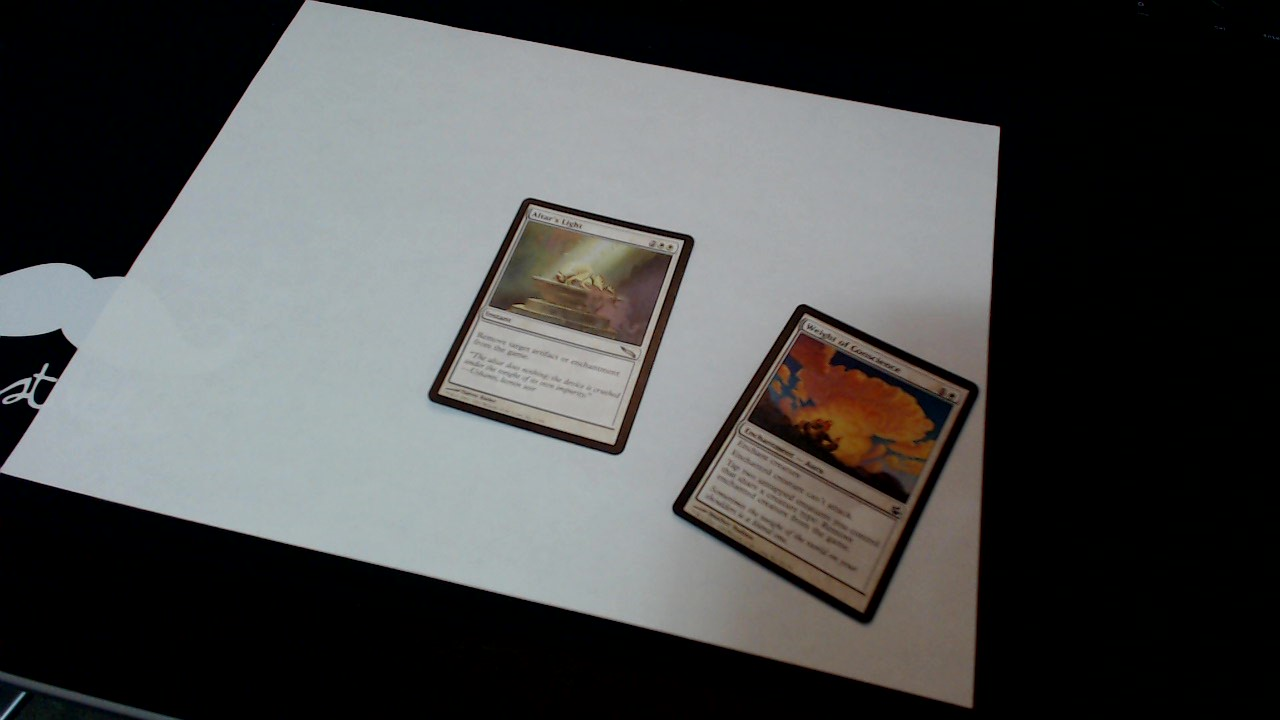MTG Card: (663, 301, 984, 632), (423, 192, 699, 460)
